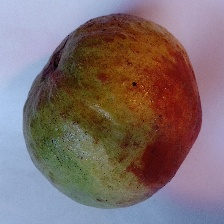guava: (8, 9, 208, 183)
